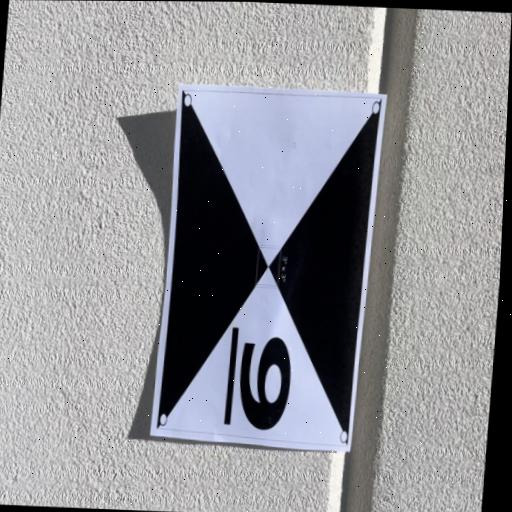target9: (151, 83, 386, 451)
